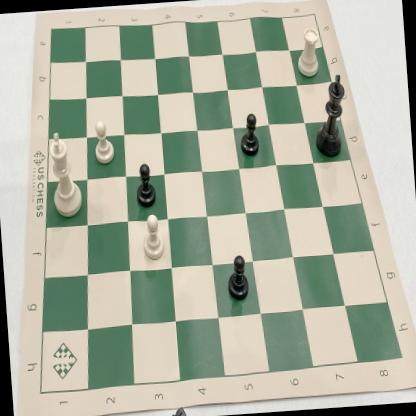black-king: (309, 70, 352, 160)
black-pawn: (224, 246, 253, 304), (132, 156, 160, 211), (237, 108, 262, 159)
white-king: (44, 128, 86, 223)
white-pawn: (137, 211, 169, 264), (90, 116, 118, 166)
white-rook: (294, 22, 325, 82)
